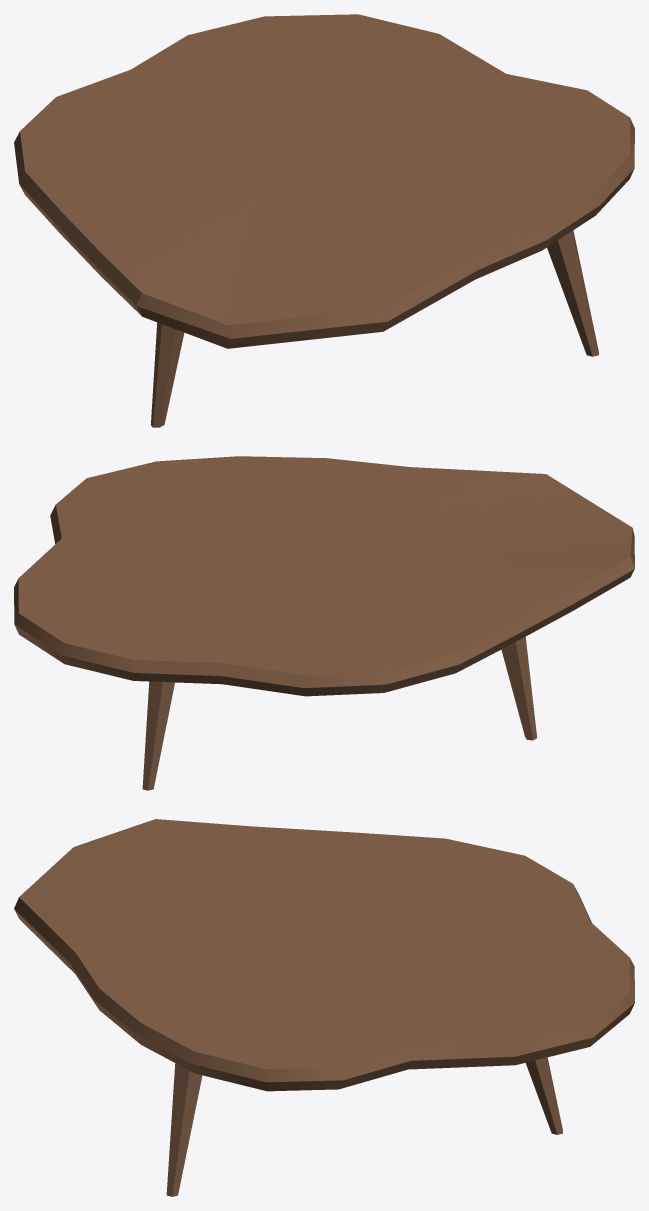
The model's file is coffee table.fbx.
3 renders of one model, top to bottom at view 1: azimuth 30°, elevation 25°; view 2: azimuth 150°, elevation 25°; view 3: azimuth 270°, elevation 25°, orthographic. The views are drawn at different scales.
Visible parts, largest first — view 1: coffee_table; view 2: coffee_table; view 3: coffee_table.
Boxes of the visible parts, x1,y1,x2,y2 form: coffee_table: (14,14,634,427); coffee_table: (14,456,634,790); coffee_table: (14,819,634,1196).
Bounding box in the file's own units: 0.1945 × 0.061 × 0.2017.
